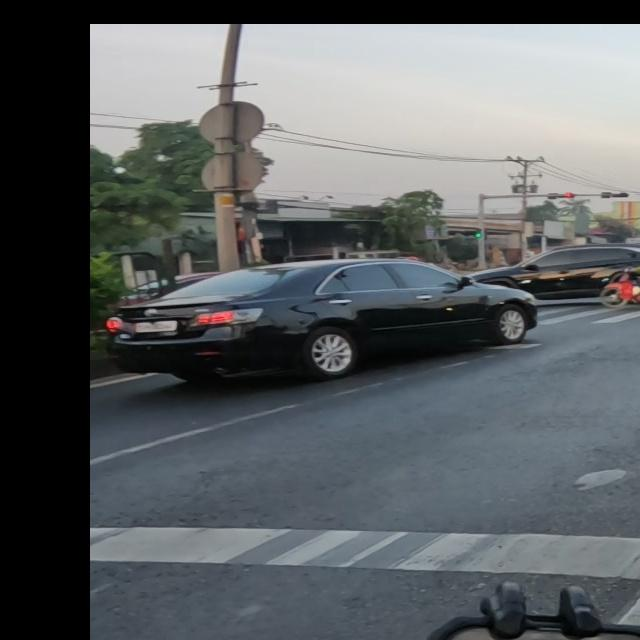license-plate: (133, 320, 177, 335)
